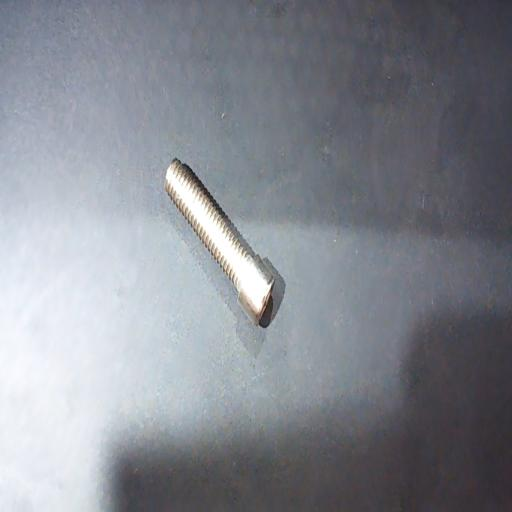screw: (166, 158, 274, 328)
